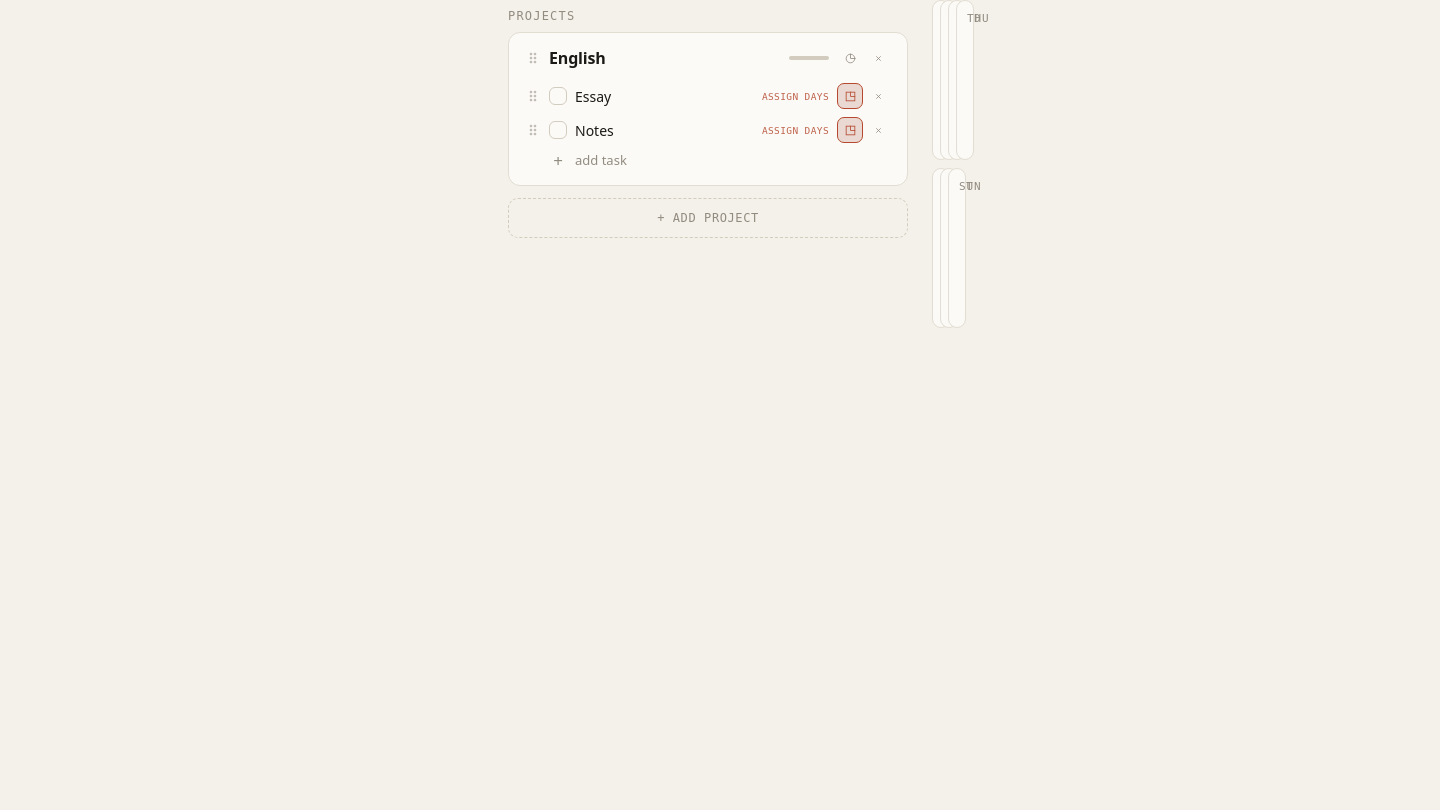
WeekBoard › the project confirm names the project and counts its tasks
Click the button named "Delete project".
click(878, 58)  # box left=865, top=45, right=891, bottom=71
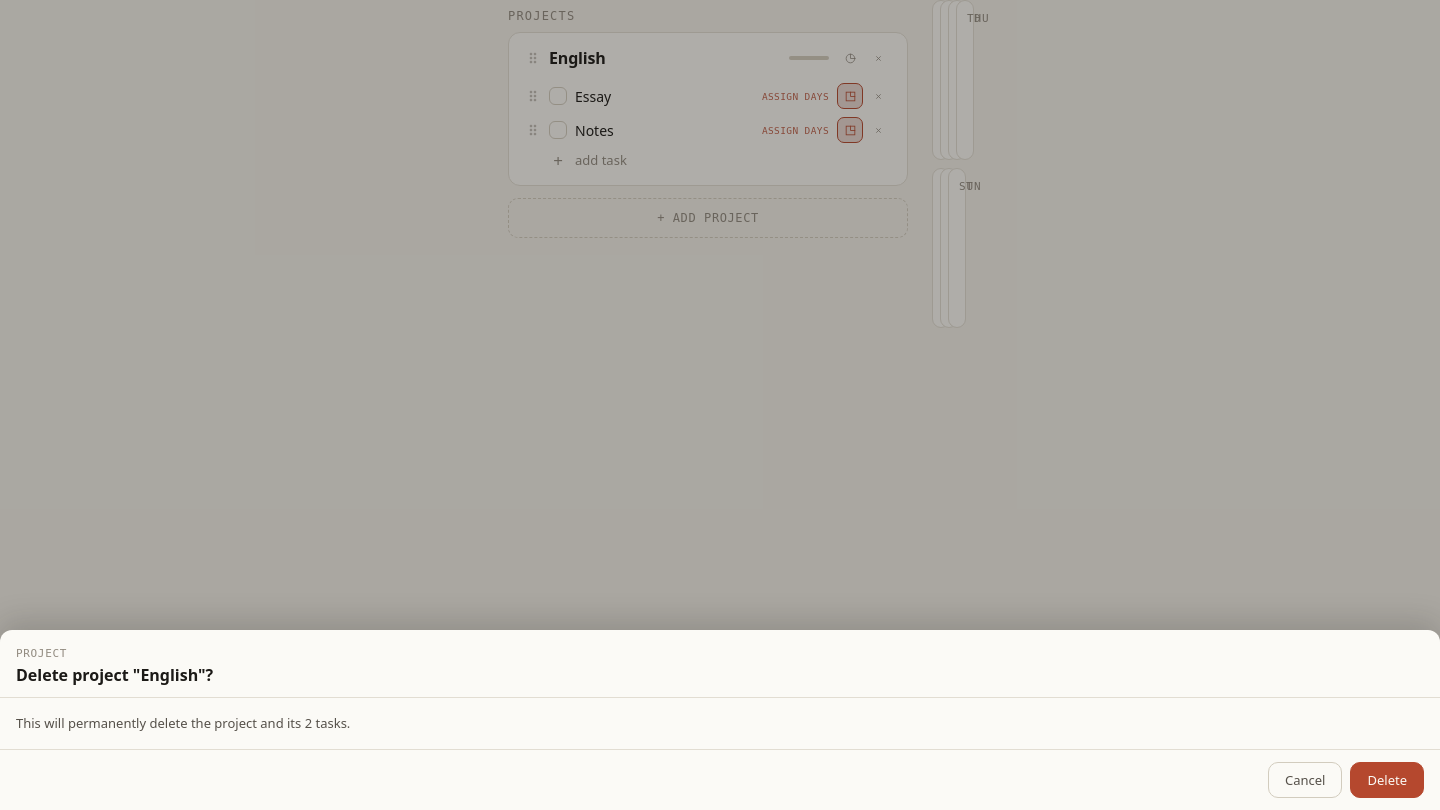
Expected: the heading "Delete project \"English\"?" is shown, left=16, top=664, right=213, bottom=686
Expected: the text "This will permanently delete the project and its 2 tasks." is shown, left=16, top=714, right=350, bottom=732
